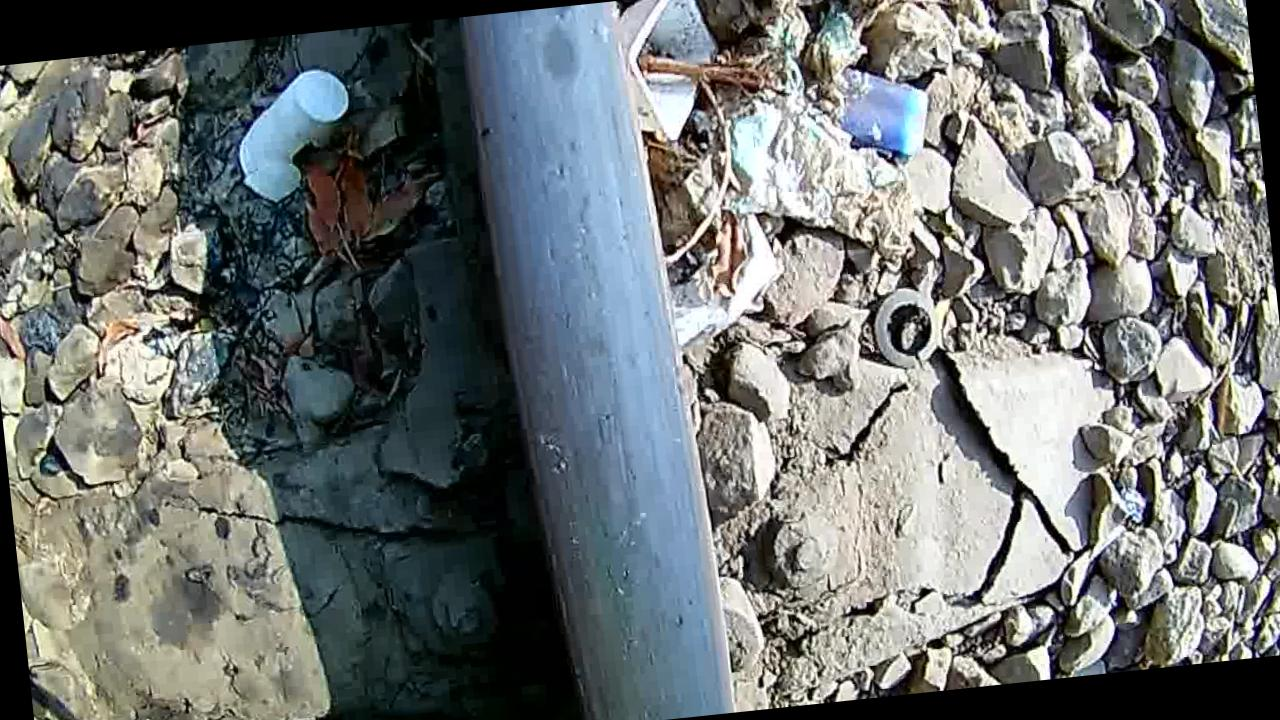bolt_missing: (469, 0, 647, 175)
